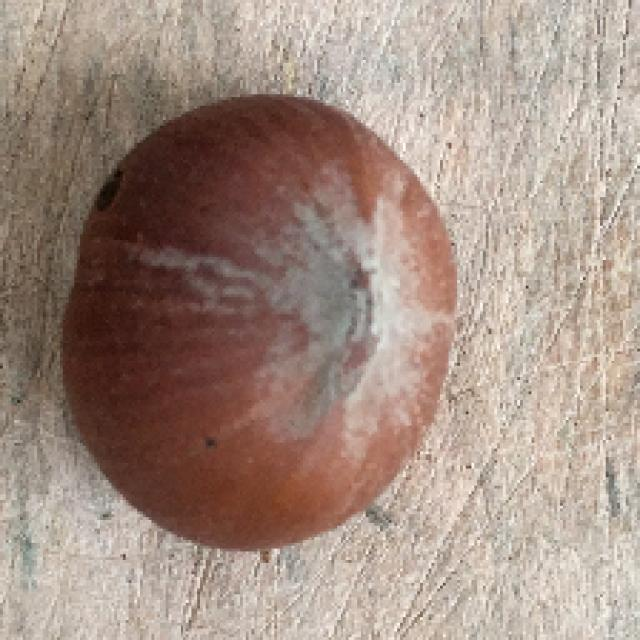damagedHazelnut: (45, 88, 457, 545)
